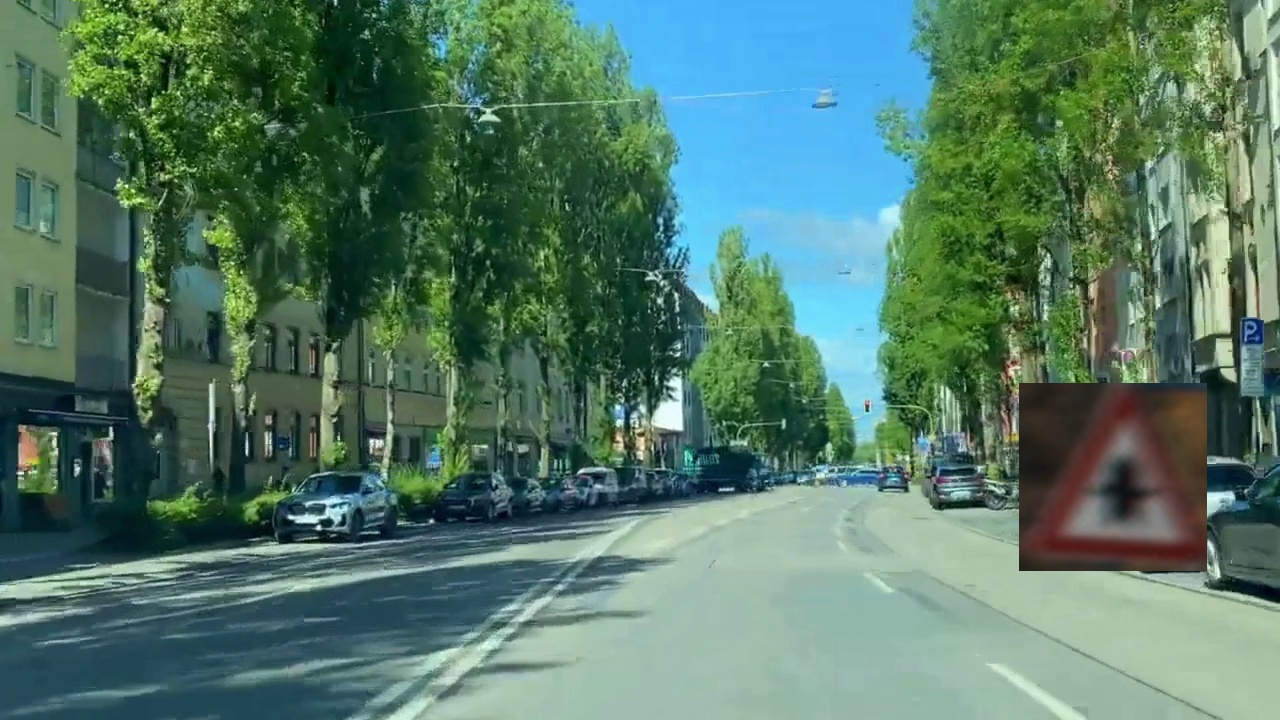Right-of-way: (1019, 383, 1207, 571)
